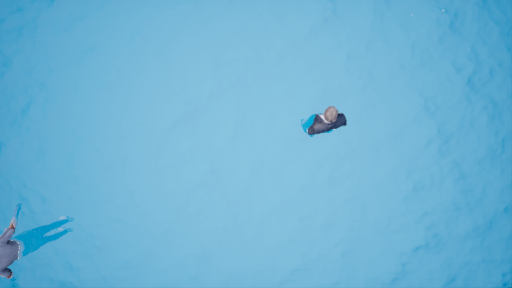person: (1, 198, 85, 282), (300, 101, 362, 144)
